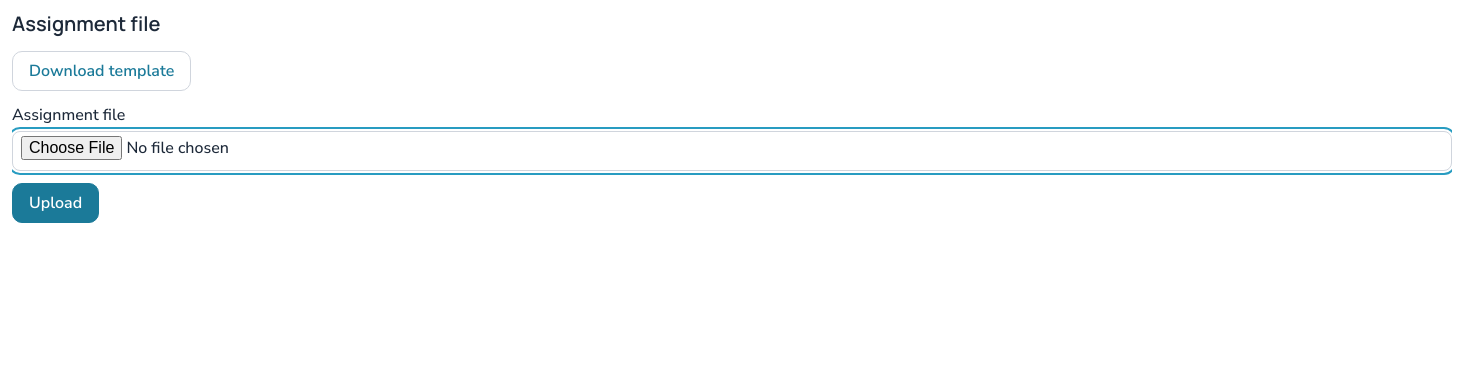
Test: AssignmentFileUpload › BPA12_fileHasNoRows
Earlier steps of the test are not shown.
Step 1. Click the button "Upload" → point(56, 203), box [12,183,99,223]
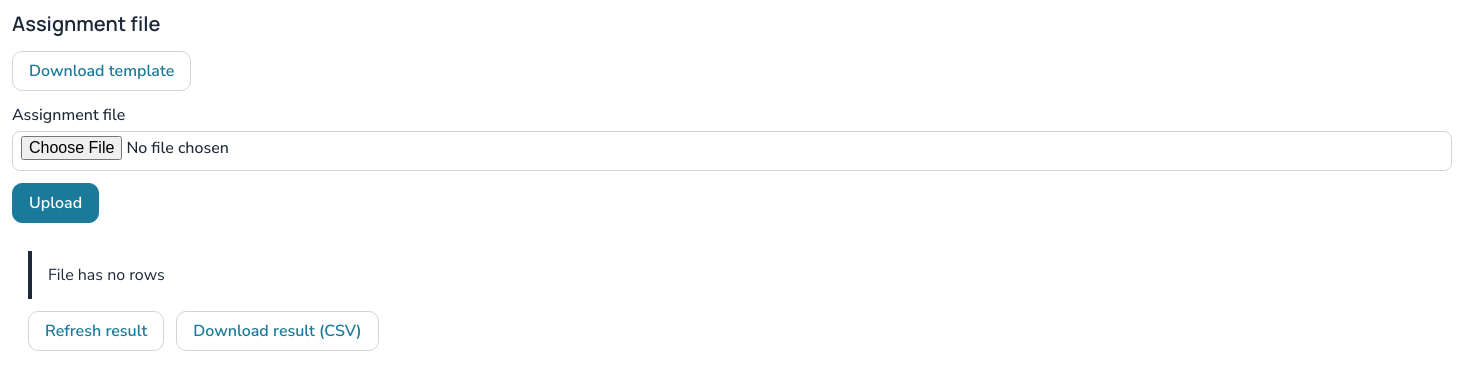
Check: the text "File has no rows" is shown, box [28,251,1436,299]
